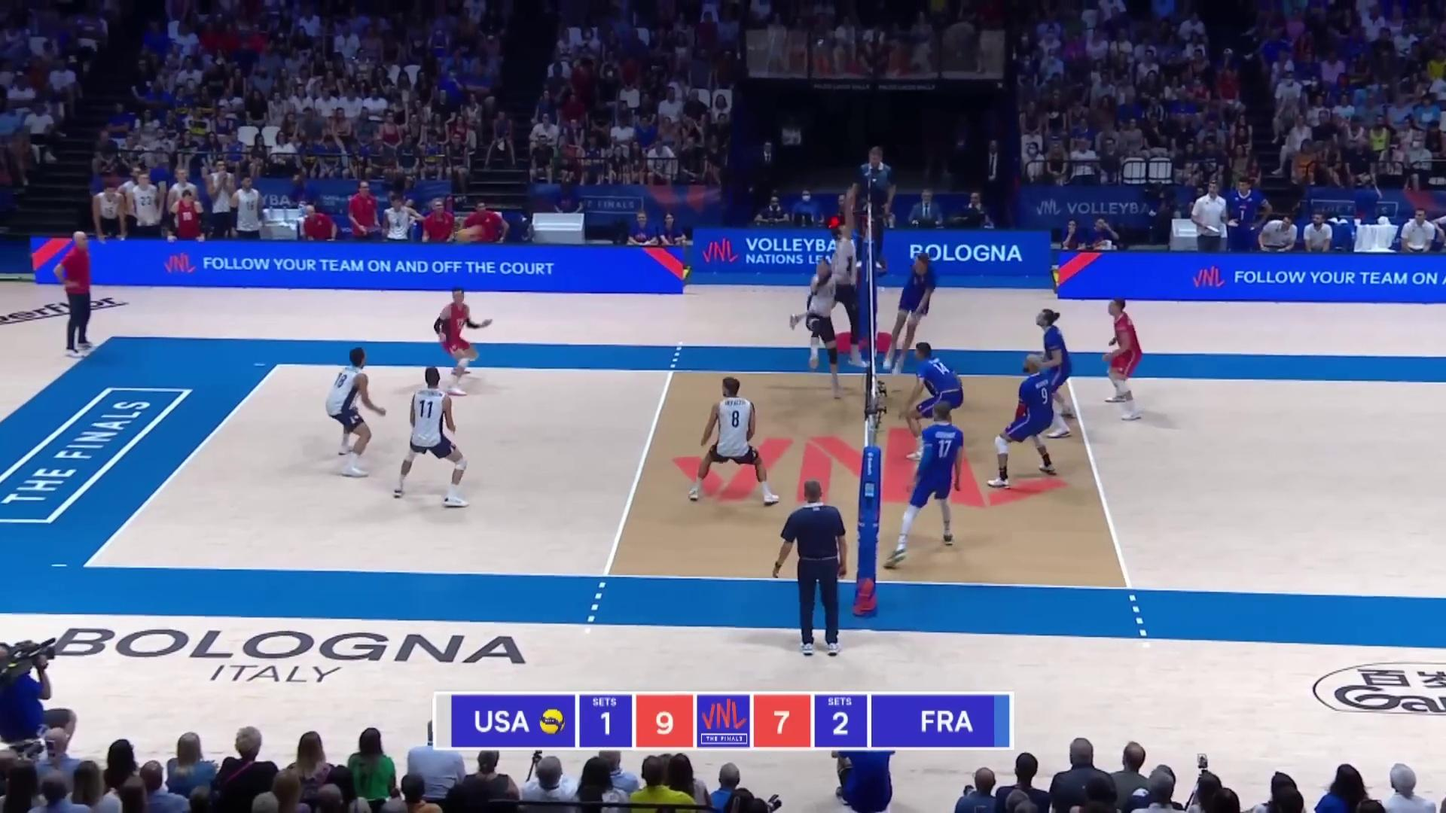player: (895, 402, 971, 565), (692, 377, 782, 506), (395, 366, 474, 506), (793, 224, 867, 370), (989, 355, 1062, 491), (329, 349, 390, 475), (885, 251, 935, 375), (437, 285, 494, 392), (1033, 313, 1083, 432), (912, 341, 968, 443), (809, 261, 850, 400), (1104, 301, 1144, 422)
refree: (775, 480, 850, 657), (850, 147, 895, 265)
